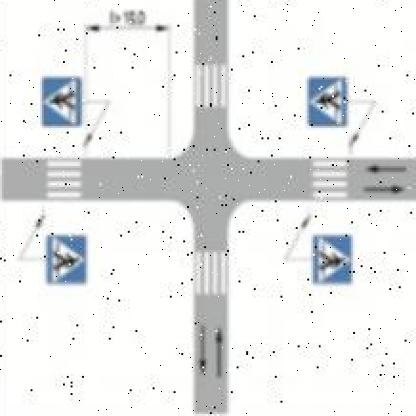Pedestrian Crossing: (303, 73, 349, 134), (37, 75, 83, 132), (42, 234, 88, 289), (310, 236, 354, 289)
